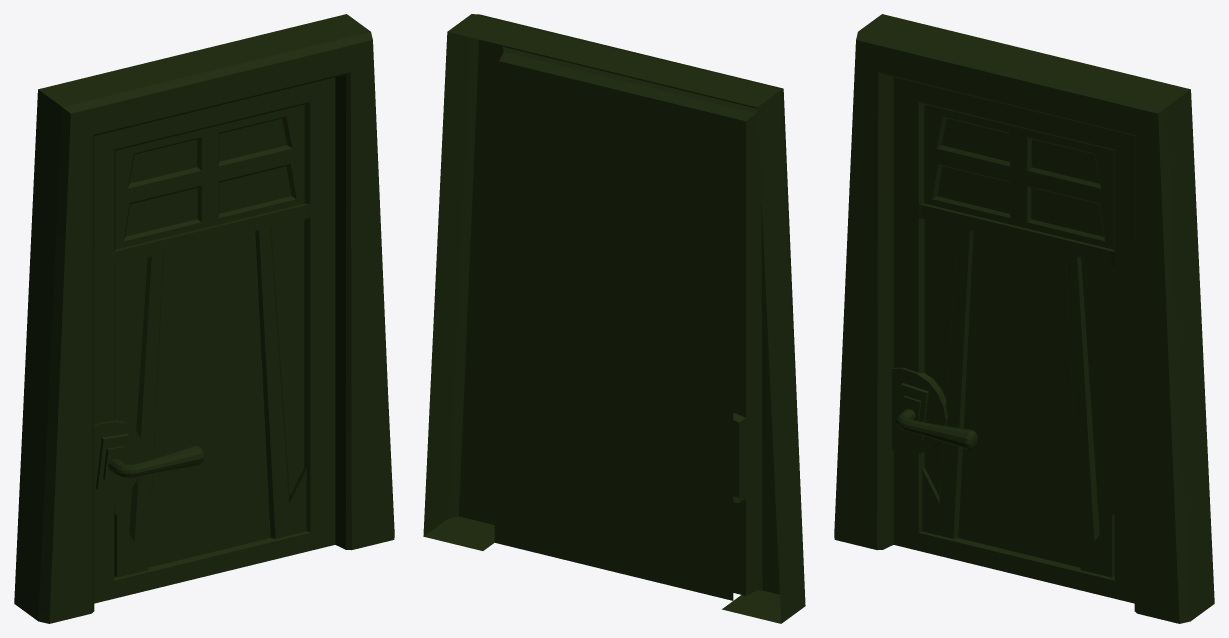
The model's file is MSG_Lr_doorlibrary.FBX.
3 renders of one model, left to right at view 1: azimuth 30°, elevation 25°; view 2: azimuth 150°, elevation 25°; view 3: azimuth 330°, elevation 25°, orthographic.
Visible parts, largest first — view 1: Object138; view 2: Object138; view 3: Object138.
Part boxes in pixels (bbox=[...]): Object138: bbox=[14, 14, 394, 623]; Object138: bbox=[423, 14, 805, 623]; Object138: bbox=[834, 14, 1214, 623].
Bounding box in the file's own units: 184 × 251 × 35.85.
